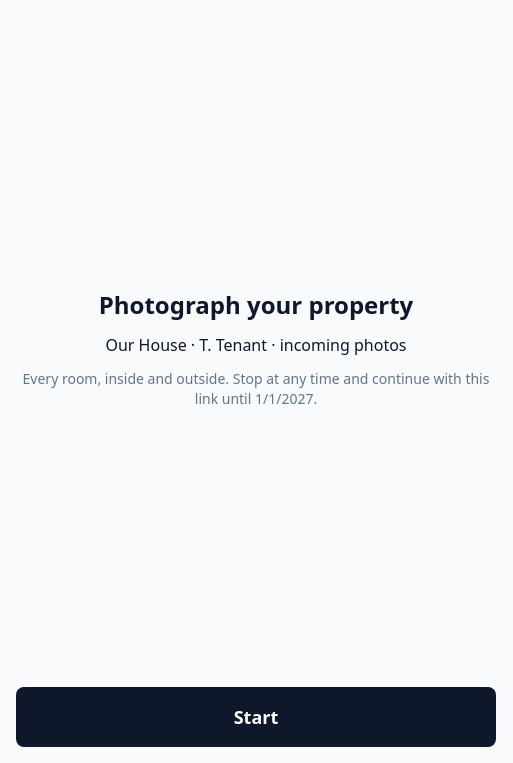
phone unlock › offers to lock the link to the phone, then sends the new credential and keeps the unlock
The image size is (513, 763).
Click the button "Start" at [256, 717], box x1=16 y1=687 x2=496 y2=747
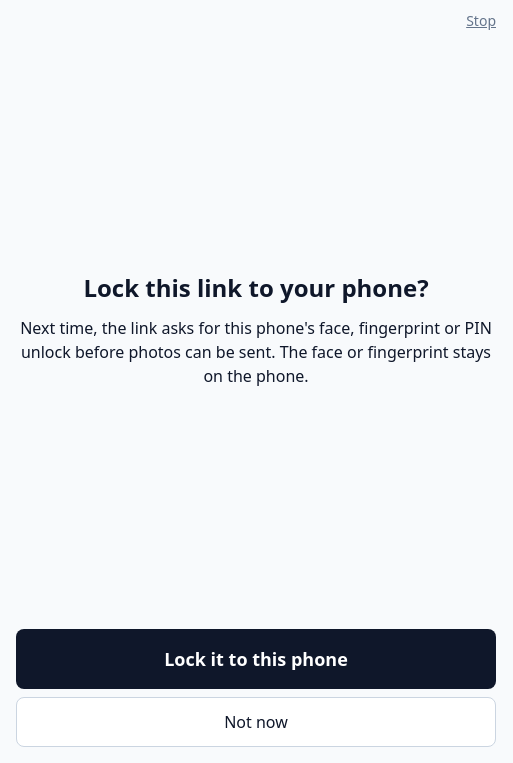
Click the button "Lock it to this phone" at [256, 659], box x1=16 y1=629 x2=496 y2=689
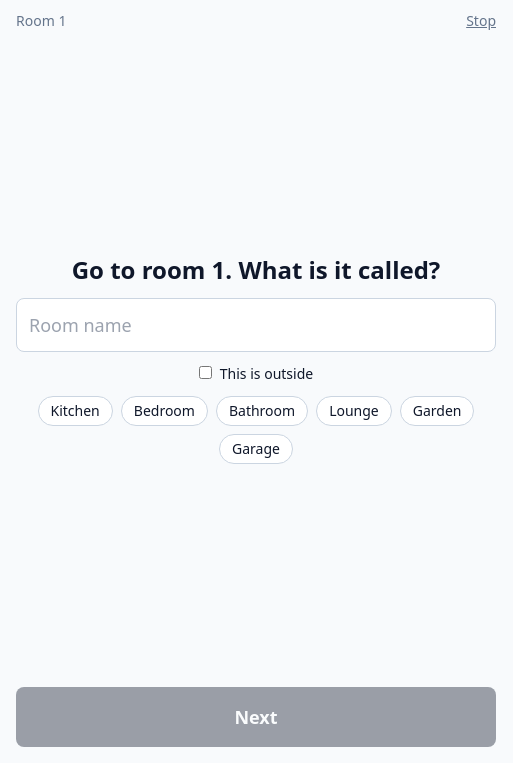
Now the heading "Go to room 1. What is it called?" is shown, box x1=72 y1=254 x2=440 y2=286
